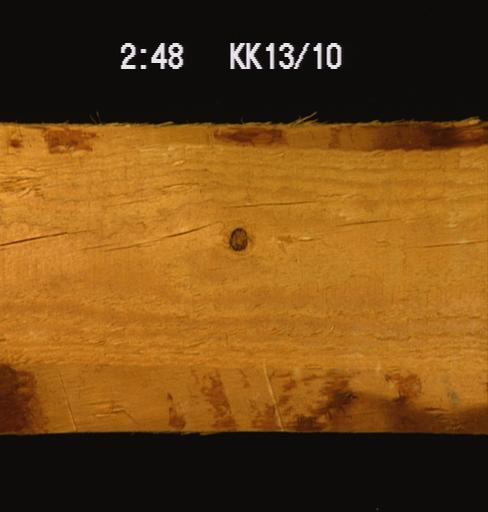dry_knot: (226, 223, 250, 254)
split: (99, 207, 220, 251), (0, 217, 88, 247), (320, 208, 407, 234), (408, 229, 484, 256), (222, 197, 315, 209)
wave: (243, 370, 486, 436), (0, 122, 487, 153), (0, 369, 230, 430)
